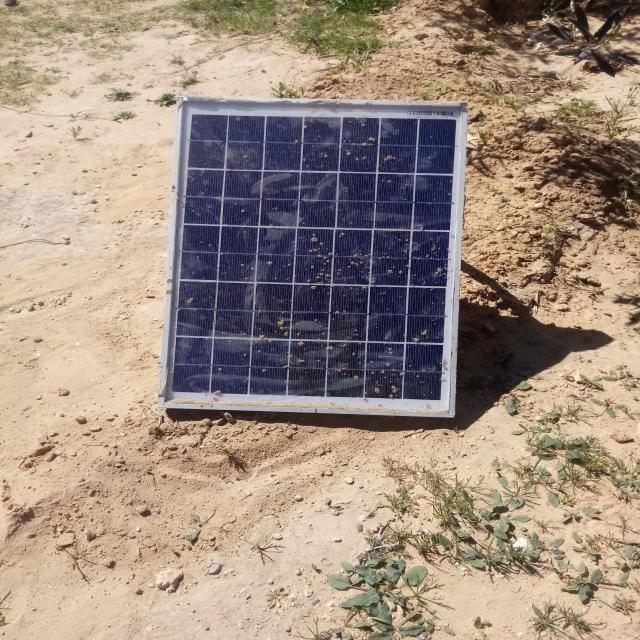faulty: (162, 97, 466, 416)
